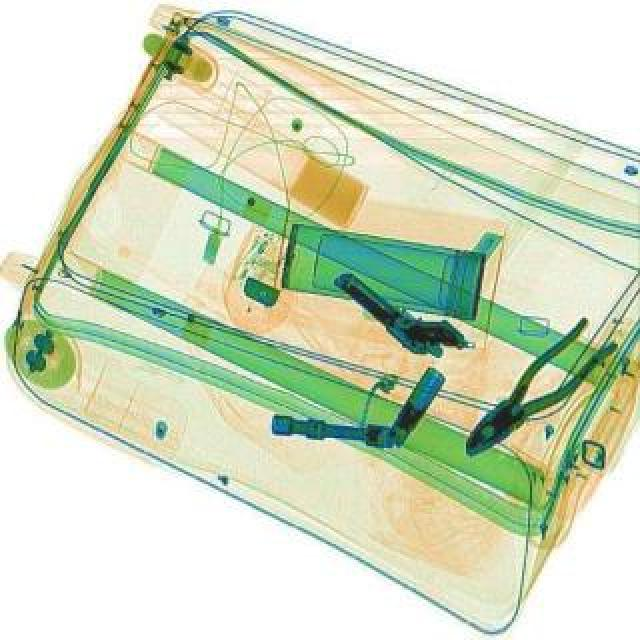gun: (330, 250, 470, 380)
wrench: (448, 318, 620, 470)
